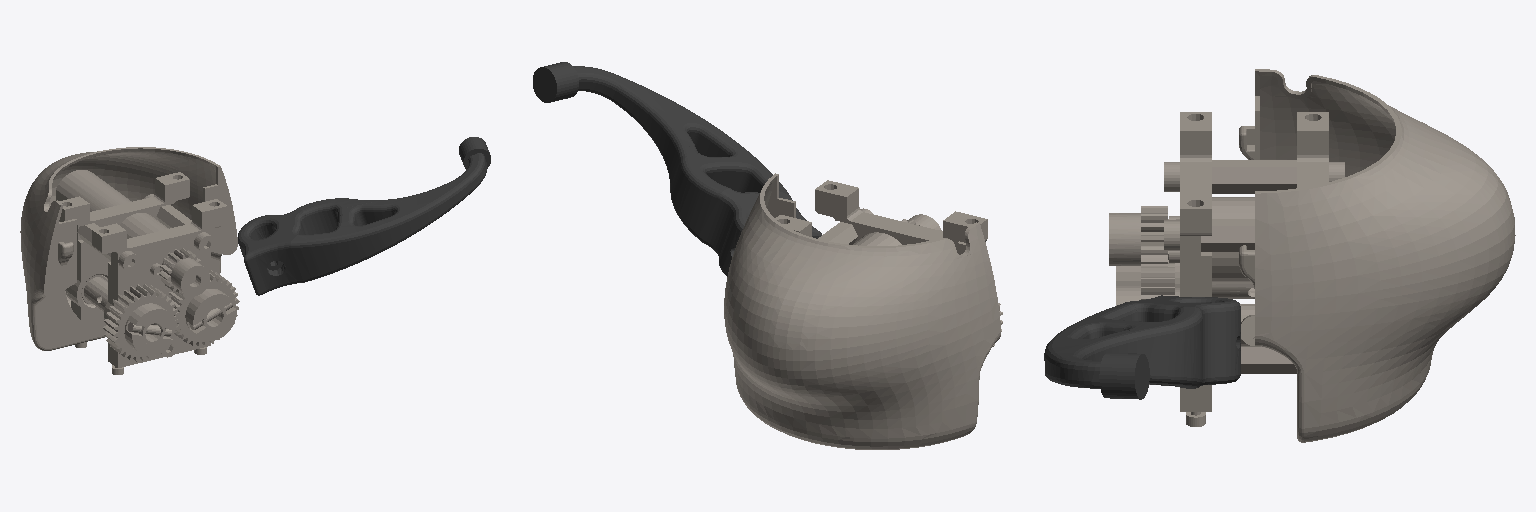
The robot description file, URDF, robot "GreiferZF_2016":
<?xml version="1.0" encoding="utf-8"?>
<!-- This URDF was automatically created by SolidWorks to URDF Exporter! Originally created by [author] ([email redacted]) 
     Commit Version: 1.6.0-4-g7f85cfe  Build Version: 1.6.7995.38578
     For more information, please see http://wiki.ros.org/sw_urdf_exporter -->
<robot
  name="GreiferZF_2016">
  <link
    name="base_link">
    <inertial>
      <origin
        xyz="0.000716667951646768 -0.0220467546898447 -0.00525012125053753"
        rpy="0 0 0" />
      <mass
        value="0.0420250780697651" />
      <inertia
        ixx="7.03835468352771E-06"
        ixy="4.54494835168959E-08"
        ixz="-1.34095035418891E-08"
        iyy="8.07960101558684E-06"
        iyz="1.78358247621345E-07"
        izz="9.6532965389247E-06" />
    </inertial>
    <visual>
      <origin
        xyz="0 0 0"
        rpy="0 0 0" />
      <geometry>
        <mesh
          filename="package://GreiferZF_2016/meshes/base_link.STL" />
      </geometry>
      <material
        name="">
        <color
          rgba="0.647058823529412 0.619607843137255 0.588235294117647 1" />
      </material>
    </visual>
    <collision>
      <origin
        xyz="0 0 0"
        rpy="0 0 0" />
      <geometry>
        <mesh
          filename="package://GreiferZF_2016/meshes/base_link.STL" />
      </geometry>
    </collision>
  </link>
  <link
    name="gripper_a">
    <inertial>
      <origin
        xyz="-2.63929004545528E-05 -0.00428504497802679 0.0208602404512305"
        rpy="0 0 0" />
      <mass
        value="0.00998043833114313" />
      <inertia
        ixx="3.94265701566114E-06"
        ixy="-1.29448842700966E-11"
        ixz="2.24074768068578E-11"
        iyy="3.66921985815796E-06"
        iyz="1.92289374934855E-07"
        izz="5.30574201923679E-07" />
    </inertial>
    <visual>
      <origin
        xyz="0 0 0"
        rpy="0 0 0" />
      <geometry>
        <mesh
          filename="package://GreiferZF_2016/meshes/gripper_a.STL" />
      </geometry>
      <material
        name="">
        <color
          rgba="0.101960784313725 0.101960784313725 0.101960784313725 1" />
      </material>
    </visual>
    <collision>
      <origin
        xyz="0 0 0"
        rpy="0 0 0" />
      <geometry>
        <mesh
          filename="package://GreiferZF_2016/meshes/gripper_a.STL" />
      </geometry>
    </collision>
  </link>
  <joint
    name="joint_a"
    type="revolute">
    <origin
      xyz="-0.0105 0.00085663 -0.029246"
      rpy="-2.8041 0 1.5708" />
    <parent
      link="base_link" />
    <child
      link="gripper_a" />
    <axis
      xyz="1 0 0" />
    <limit
      lower="0"
      upper="0"
      effort="0"
      velocity="0" />
  </joint>
  <link
    name="gripper_b">
    <inertial>
      <origin
        xyz="8.09543524907481E-08 -0.00428504497802674 0.0208602404512296"
        rpy="0 0 0" />
      <mass
        value="0.00998043833114302" />
      <inertia
        ixx="3.94265701565814E-06"
        ixy="-1.29448837528763E-11"
        ixz="2.24074773134326E-11"
        iyy="3.66921985809367E-06"
        iyz="1.92289374934843E-07"
        izz="5.30574201861358E-07" />
    </inertial>
    <visual>
      <origin
        xyz="0 0 0"
        rpy="0 0 0" />
      <geometry>
        <mesh
          filename="package://GreiferZF_2016/meshes/gripper_b.STL" />
      </geometry>
      <material
        name="">
        <color
          rgba="0.298039215686275 0.298039215686275 0.298039215686275 1" />
      </material>
    </visual>
    <collision>
      <origin
        xyz="0 0 0"
        rpy="0 0 0" />
      <geometry>
        <mesh
          filename="package://GreiferZF_2016/meshes/gripper_b.STL" />
      </geometry>
    </collision>
  </link>
  <joint
    name="joint_b"
    type="revolute">
    <origin
      xyz="0.0105 0 -0.029246"
      rpy="-2.8041 0 -1.5708" />
    <parent
      link="base_link" />
    <child
      link="gripper_b" />
    <axis
      xyz="1 0 0" />
    <limit
      lower="0"
      upper="0"
      effort="0"
      velocity="0" />
    <mimic
      joint="joint_a"
      multiplier="1"
      offset="0" />
  </joint>
</robot>

--- What the picture shows (computed from the rendered views, not written in the file) ---
3 views of the same robot in one strip: view 1: azimuth 30°, elevation 25°; view 2: azimuth 150°, elevation 25°; view 3: azimuth 270°, elevation 25° (orthographic).
Robot: GreiferZF_2016 — 3 links, 2 joints (2 revolute); root link base_link; default pose: every joint at zero.
Visible links, largest first — view 1: base_link, gripper_b; view 2: base_link, gripper_b; view 3: base_link, gripper_b.
Boxes of the visible links, x1,y1,x2,y2 form: base_link: [20, 147, 239, 374]; gripper_b: [238, 137, 490, 295]; base_link: [724, 173, 1002, 449]; gripper_b: [533, 62, 821, 276]; base_link: [1109, 69, 1515, 442]; gripper_b: [1044, 295, 1240, 399].
Size in the robot's own frame: 0.1396 by 0.0883 by 0.0548 metres.
2 mesh visuals loaded from 3 distinct referenced files (2 binary STL); not drawn: 1 (reference not matched to a file when rendering).